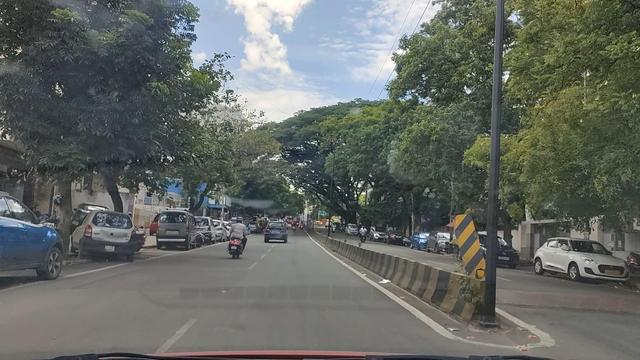LMV: (84, 213, 137, 258), (228, 216, 248, 257)
